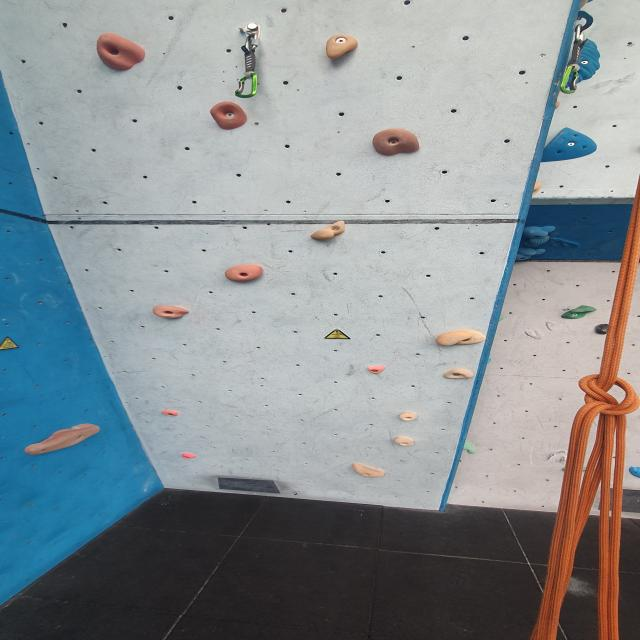Crimp: (538, 124, 598, 162), (351, 462, 388, 478), (441, 368, 476, 383), (362, 363, 388, 373), (180, 450, 202, 460), (160, 410, 183, 419)
Jug: (23, 424, 102, 456), (93, 33, 148, 71), (368, 129, 421, 157), (207, 101, 248, 131), (433, 330, 486, 350), (323, 34, 362, 60), (223, 265, 266, 285), (150, 305, 192, 322), (234, 72, 260, 99), (560, 306, 600, 321), (458, 438, 479, 454)
Pinch: (308, 221, 349, 241), (392, 436, 418, 448), (395, 412, 420, 422)
